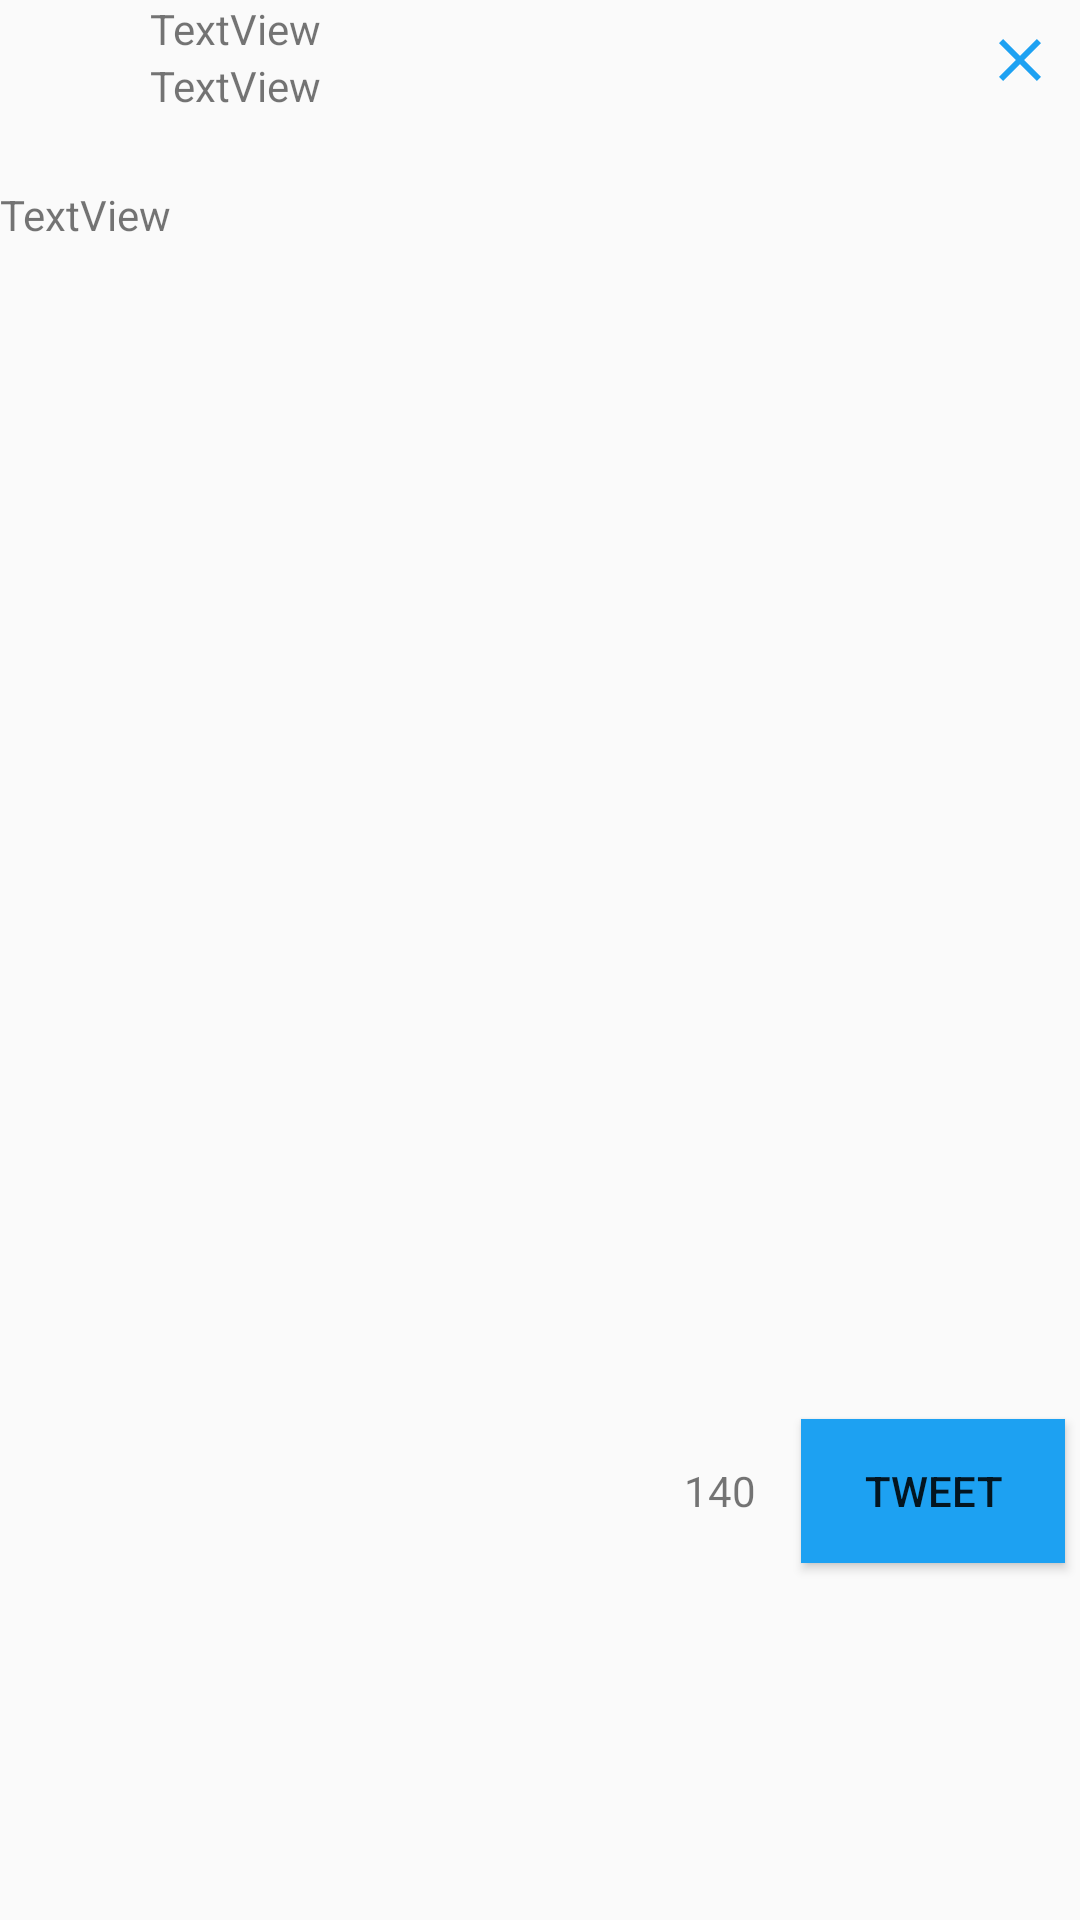

Screen size 1080px x 1920px. Icon name, then its center in pixels as (x=x, y=y):
close: (x=1020, y=60)
